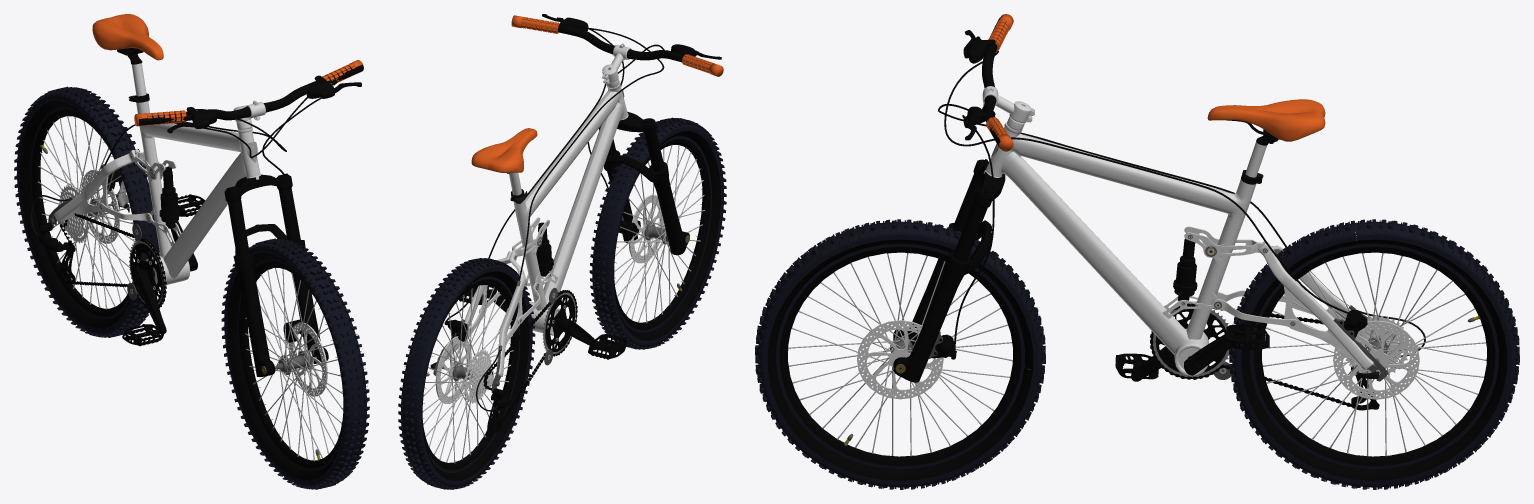
3 renders of one model, left to right at view 1: azimuth 30°, elevation 25°; view 2: azimuth 150°, elevation 25°; view 3: azimuth 270°, elevation 25°, orthographic. The views are drawn at different scales.
Visible parts, largest first — view 1: 3D Models at 3dxy, Rectangl16, Cylinder78, Rectangl19, Cylinder02, Rectangl22, Cylinder80, Cylinder10, Cylinder82, Circle01, Circle06, Cylinder31 (+5 smaller); view 2: 3D Models at 3dxy, Rectangl19, Rectangl16, Cylinder78, Cylinder02, Cylinder82, Rectangl22, Cylinder10, Circle05, Circle06, Circle01, Cylinder31 (+6 smaller); view 3: 3D Models at 3dxy, Cylinder82, Rectangl16, Rectangl19, Cylinder80, Cylinder10, Circle05, Circle01, Cylinder78, Cylinder02, Rectangl22, Loft01 (+5 smaller).
Boxes of the visible parts, x1=… form: 3D Models at 3dxy: x1=20, y1=14, x2=363, y2=479; Rectangl16: x1=221, y1=238, x2=369, y2=489; Cylinder78: x1=54, y1=102, x2=257, y2=284; Rectangl19: x1=14, y1=86, x2=160, y2=337; Cylinder02: x1=224, y1=177, x2=275, y2=376; Rectangl22: x1=139, y1=64, x2=363, y2=133; Cylinder80: x1=255, y1=173, x2=328, y2=363; Cylinder10: x1=122, y1=194, x2=205, y2=346; Cylinder82: x1=117, y1=101, x2=260, y2=283; Circle01: x1=288, y1=322, x2=327, y2=396; Circle06: x1=130, y1=243, x2=162, y2=302; Cylinder31: x1=58, y1=213, x2=166, y2=308; 3D Models at 3dxy: x1=422, y1=15, x2=723, y2=480; Rectangl19: x1=398, y1=258, x2=535, y2=489; Rectangl16: x1=589, y1=117, x2=726, y2=349; Cylinder78: x1=495, y1=80, x2=628, y2=376; Cylinder02: x1=617, y1=111, x2=689, y2=255; Cylinder82: x1=437, y1=87, x2=610, y2=361; Rectangl22: x1=527, y1=14, x2=721, y2=62; Cylinder10: x1=459, y1=285, x2=627, y2=359; Circle05: x1=435, y1=336, x2=471, y2=404; Circle06: x1=545, y1=294, x2=575, y2=351; Circle01: x1=628, y1=195, x2=664, y2=263; Cylinder31: x1=483, y1=290, x2=577, y2=430; 3D Models at 3dxy: x1=767, y1=14, x2=1507, y2=480; Cylinder82: x1=983, y1=123, x2=1373, y2=376; Rectangl16: x1=755, y1=219, x2=1045, y2=489; Rectangl19: x1=1229, y1=219, x2=1519, y2=489; Cylinder80: x1=893, y1=172, x2=1005, y2=382; Cylinder10: x1=1115, y1=321, x2=1269, y2=381; Circle05: x1=1333, y1=320, x2=1419, y2=399; Circle01: x1=857, y1=320, x2=943, y2=399; Cylinder78: x1=1005, y1=122, x2=1350, y2=344; Cylinder02: x1=893, y1=159, x2=1005, y2=349; Rectangl22: x1=963, y1=17, x2=1000, y2=148; Loft01: x1=944, y1=51, x2=1360, y2=319.
Bounding box in the file's own units: 155 × 235 × 398.
